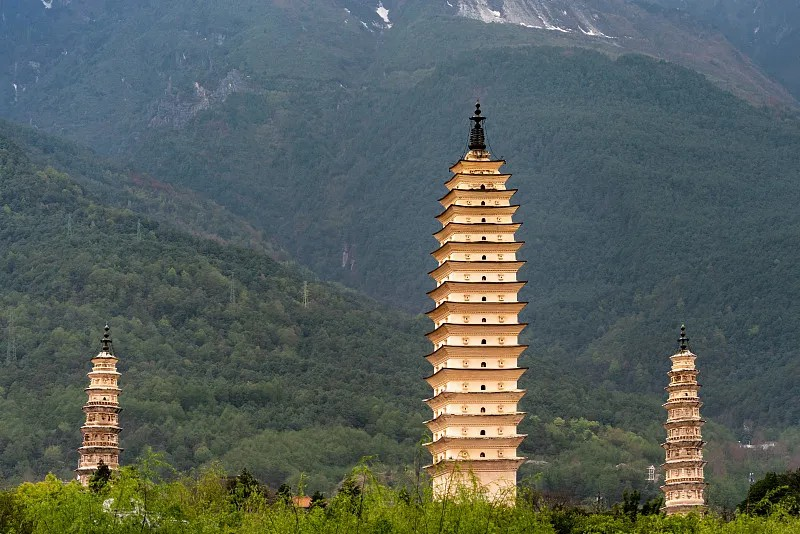ThreePagoda: (420, 99, 529, 504)
